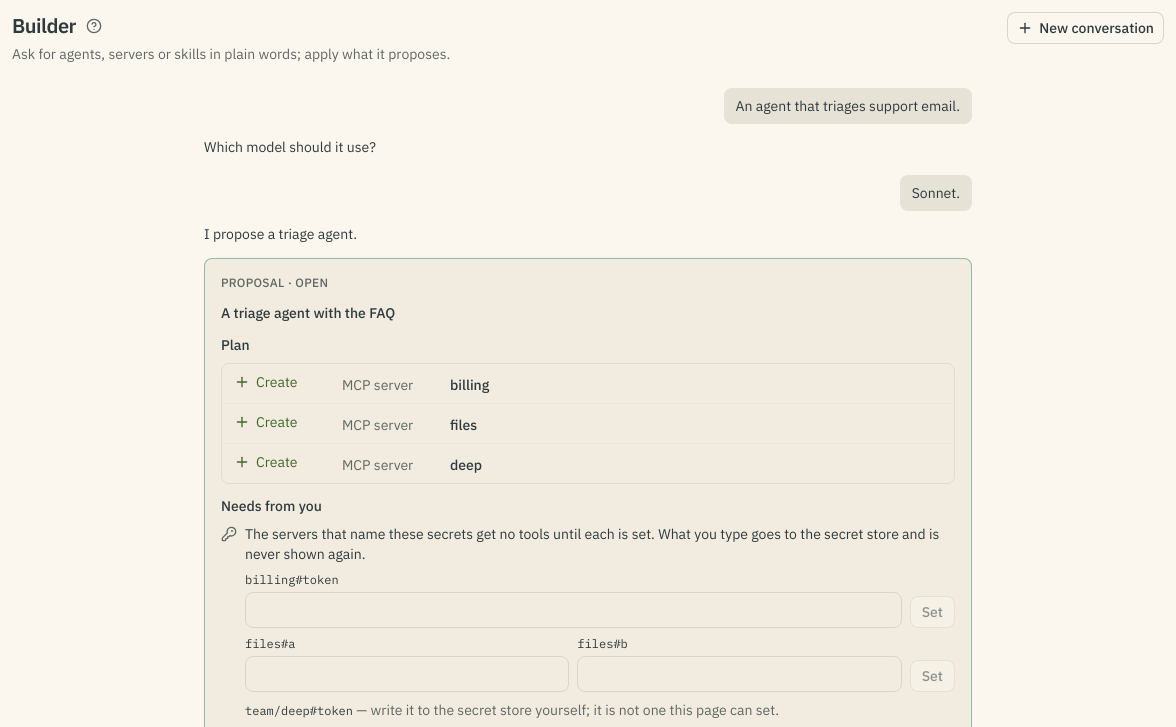
Test: the builder's conversation › sets a secret the proposal needs, its value going to the store and never shown again
This screenshot has width=1176, height=727.
Type "bill-secret" into the password field labelled "billing#token" at coordinates (573, 610), box 245,592 -> 902,628
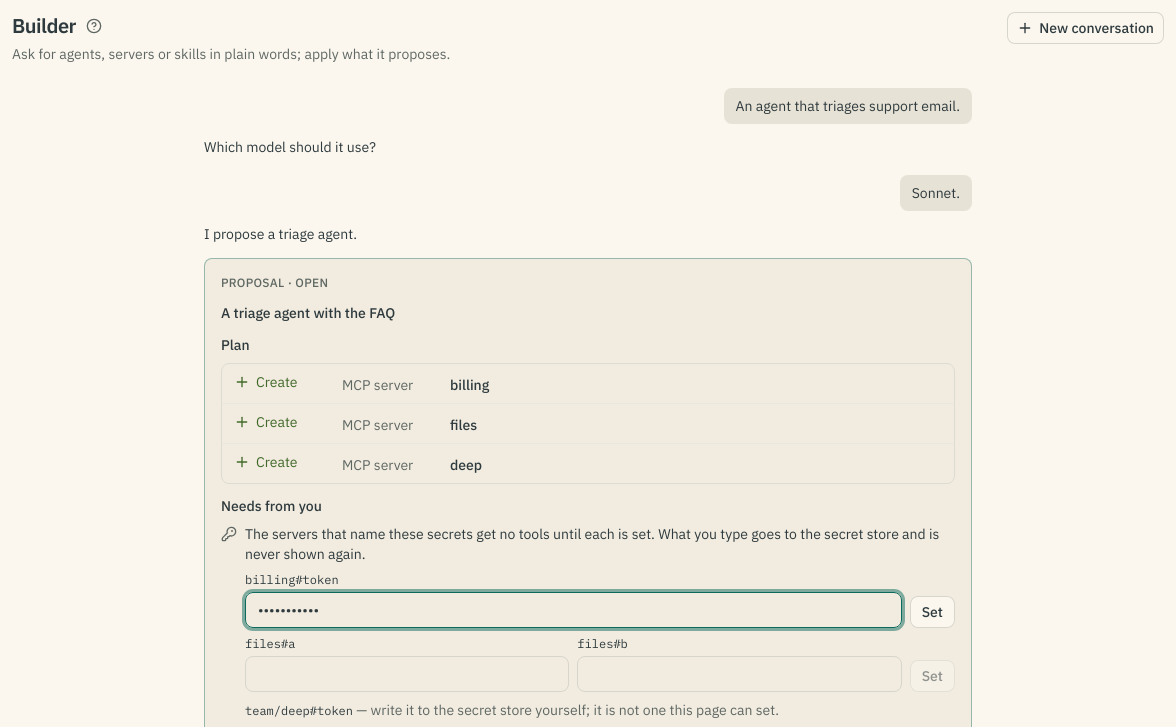
Click the 1st button "Set" at coordinates (932, 612), box 910,596 -> 955,628
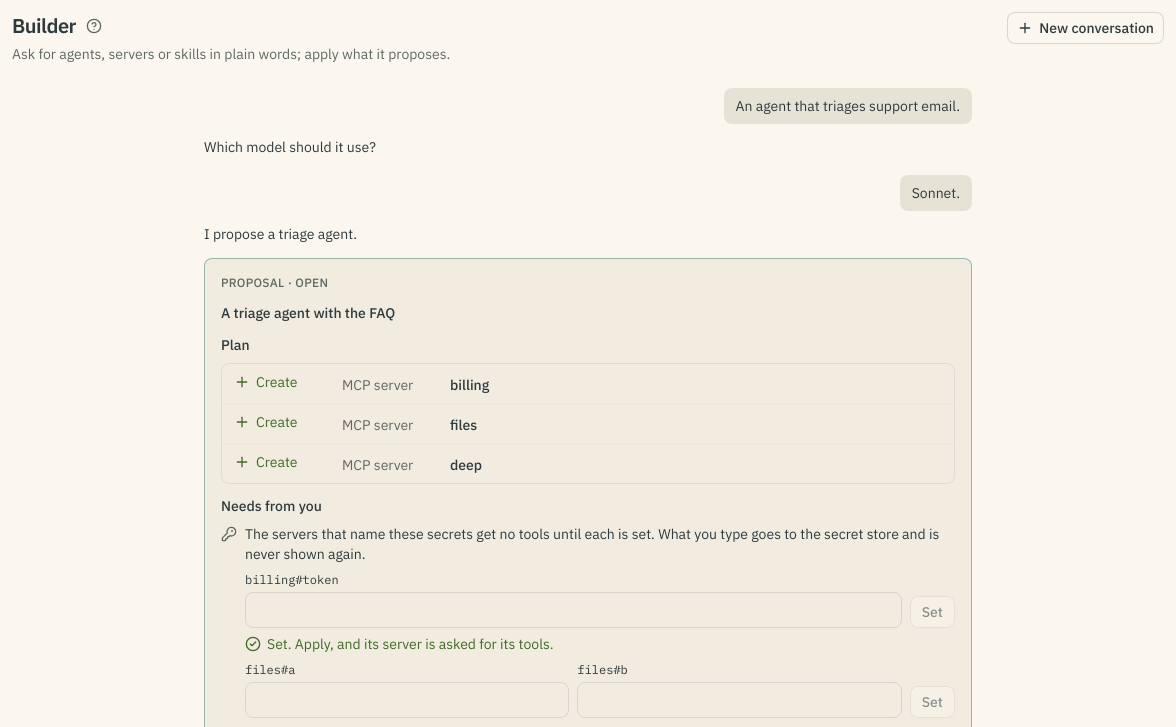
Expected: the text "Set. Apply, and its server is asked for its tools." is shown, 245,634 -> 554,652
Expected: the password field labelled "billing#token" is empty, 245,592 -> 902,628
